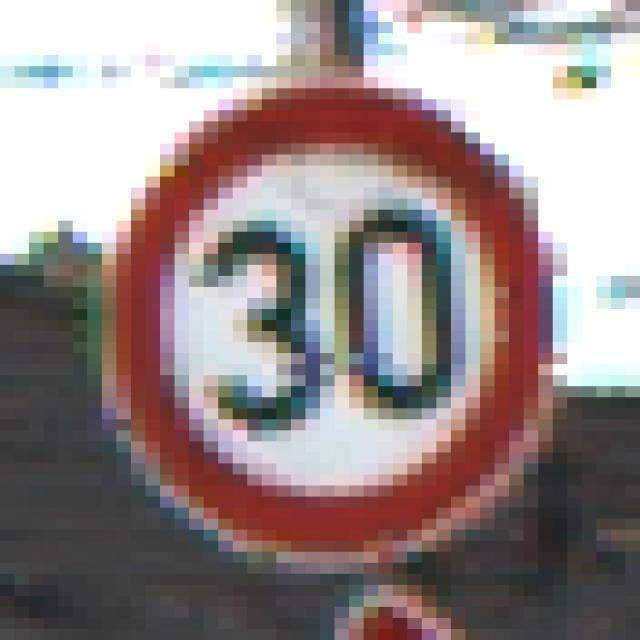Speed Limit -30-: (65, 49, 560, 580)
